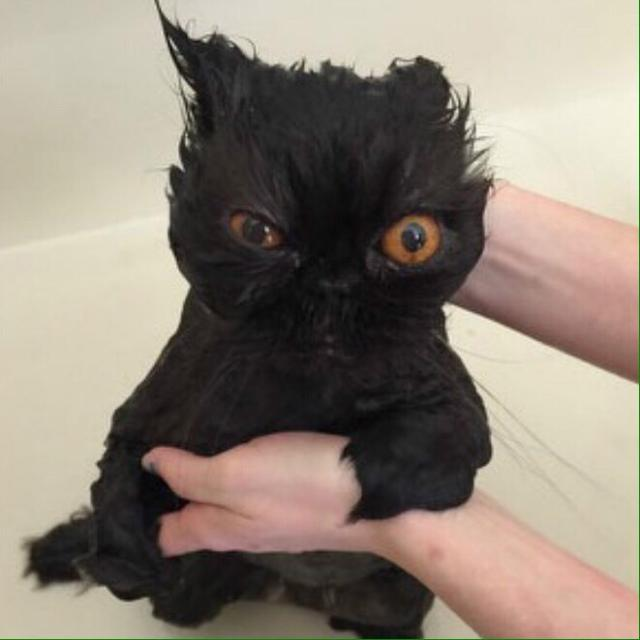cat: (144, 15, 514, 501)
